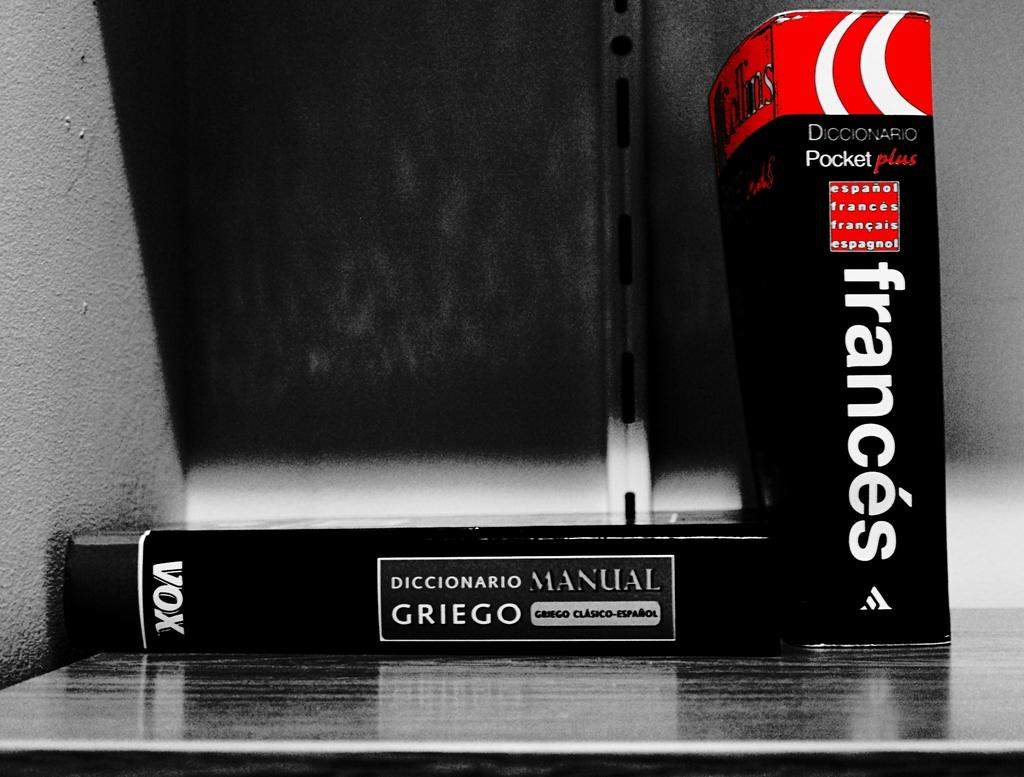book: (706, 14, 950, 644), (57, 512, 771, 636)
